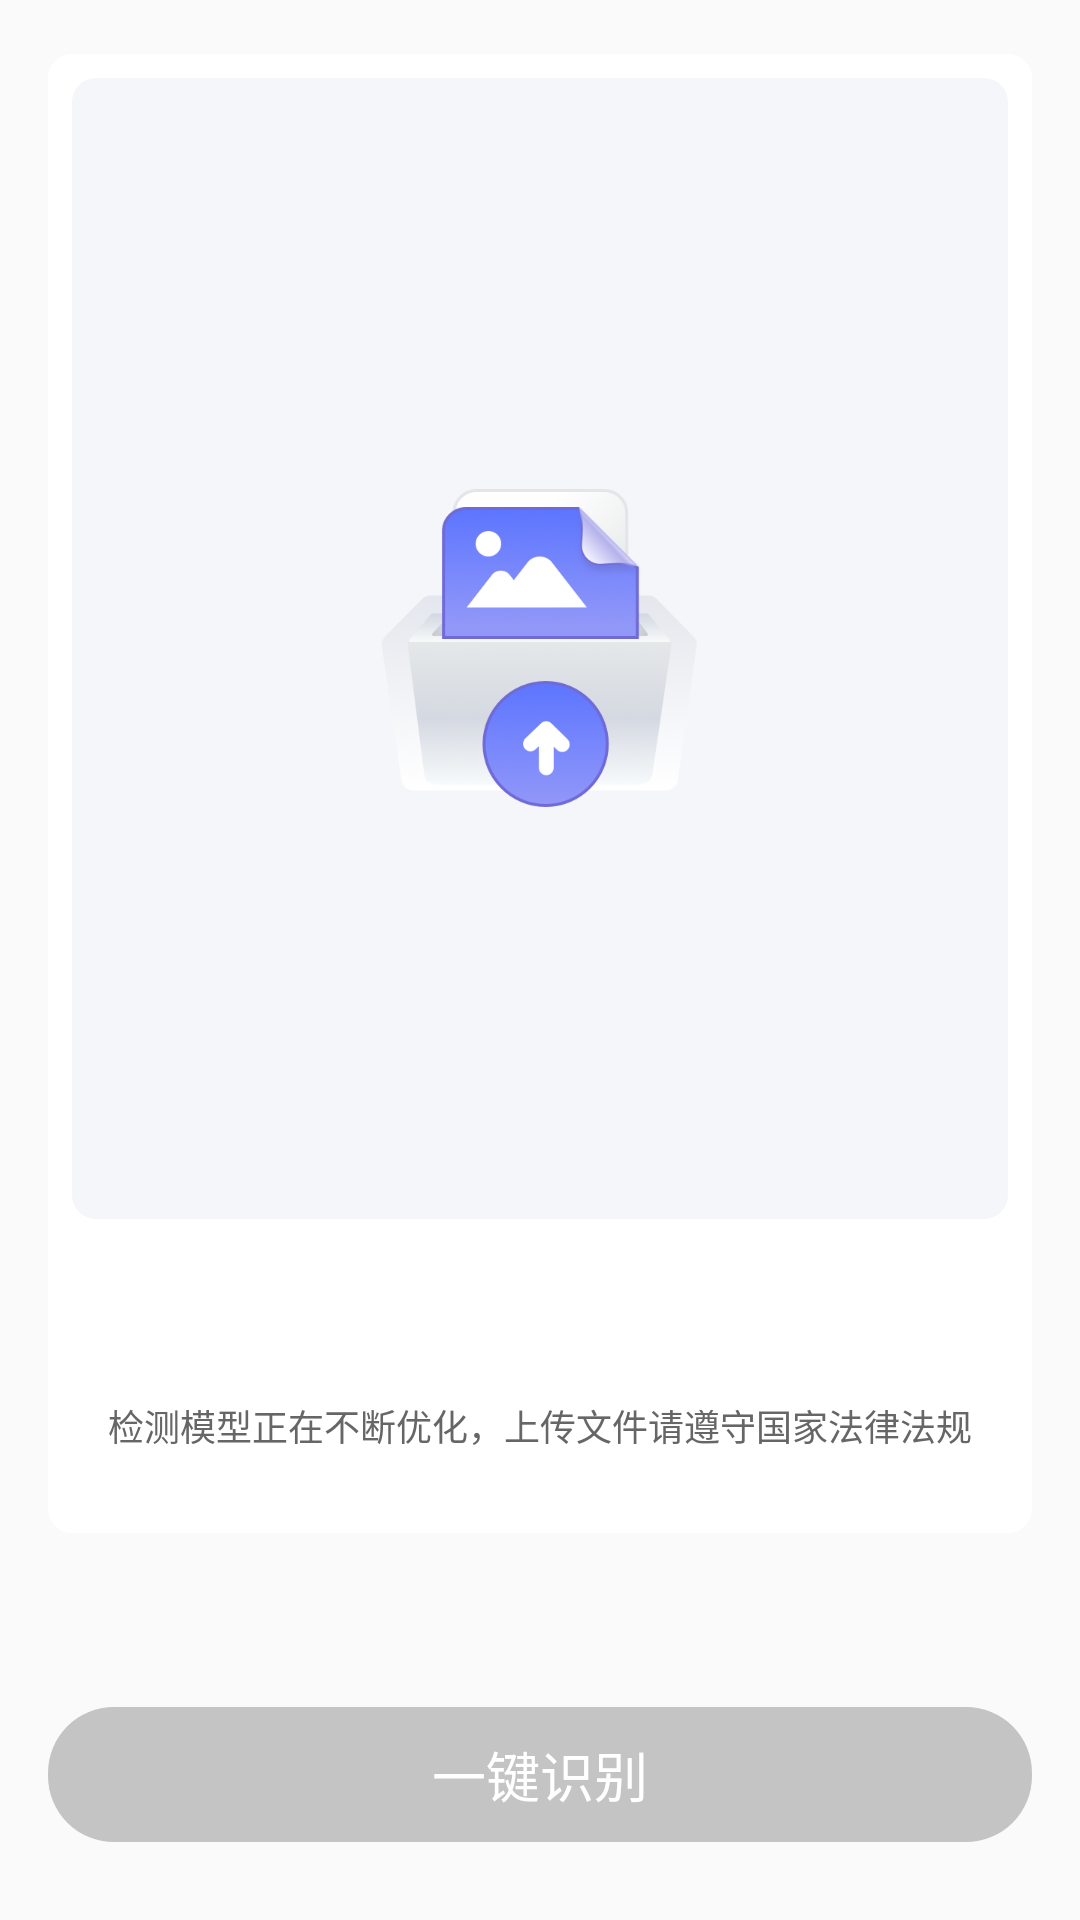

Screen size 1080x1920. Icon name, then its center in pixels as (x,y):
upload: (539,657)
